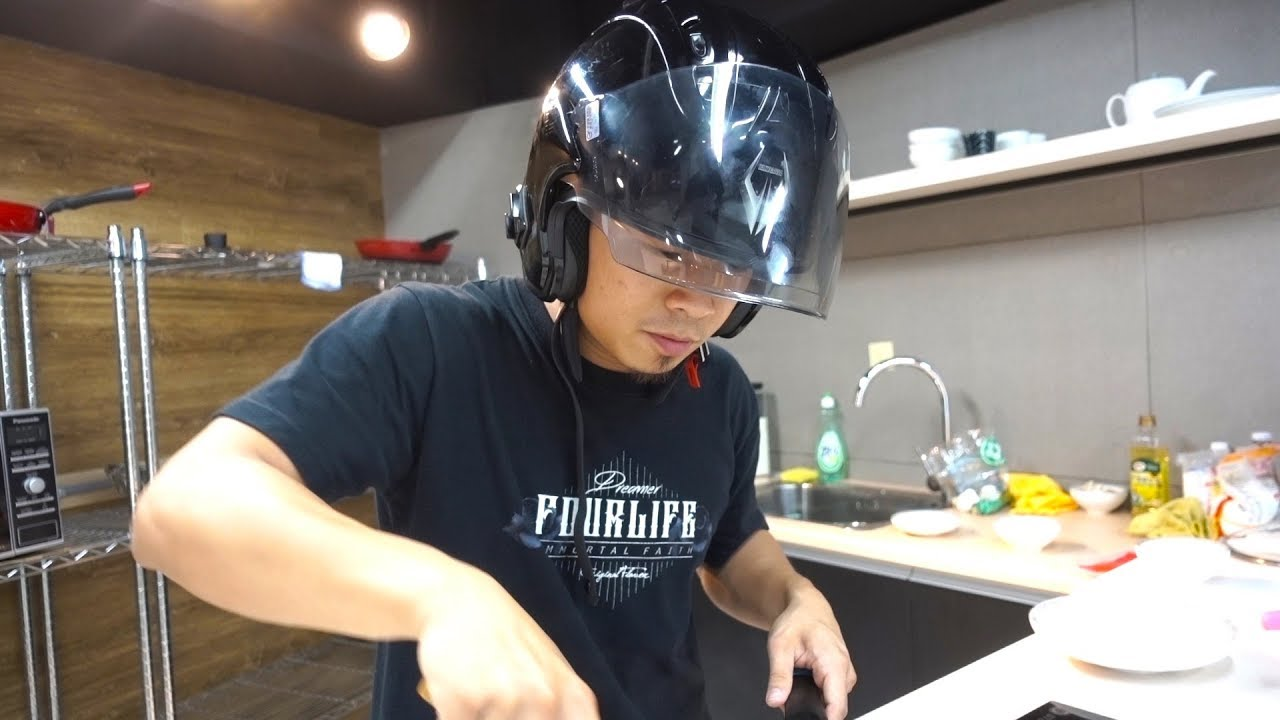helmet: (517, 18, 849, 295)
